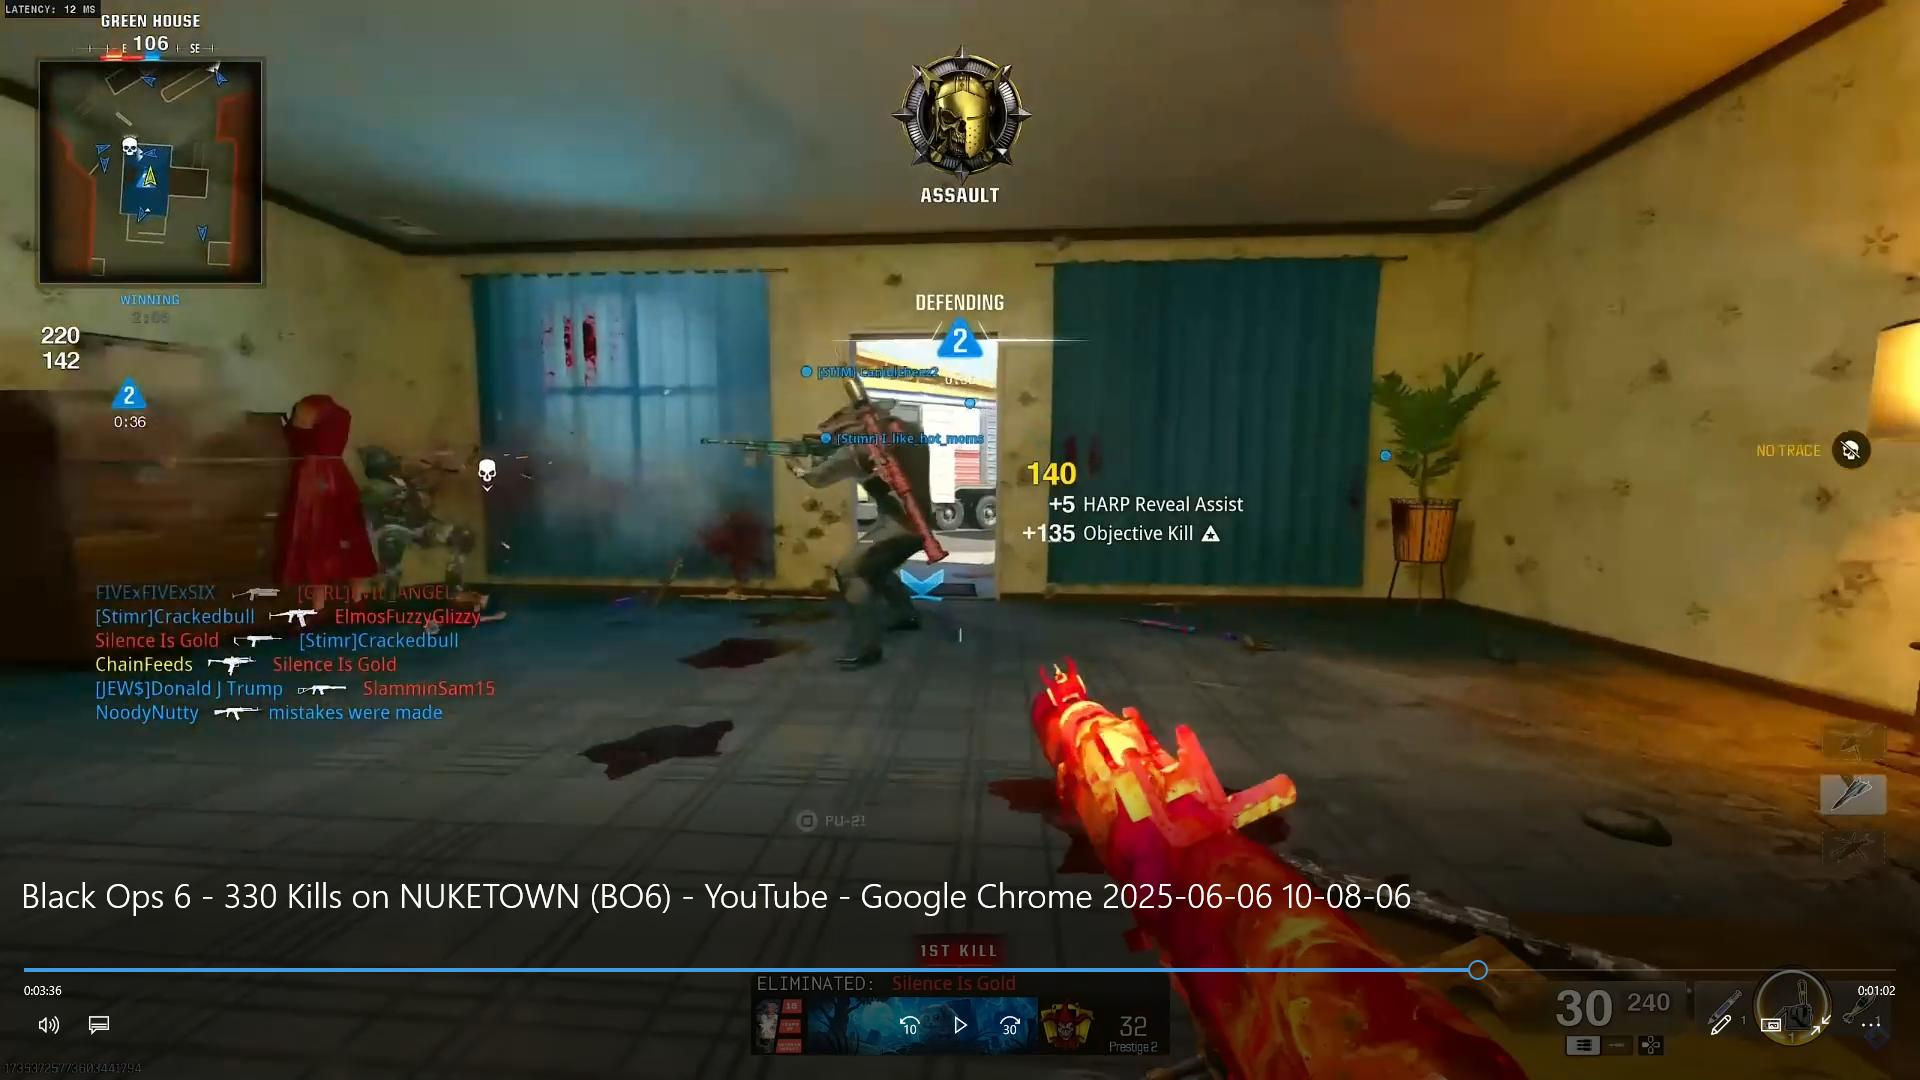Enemy: (711, 396, 1013, 670)
